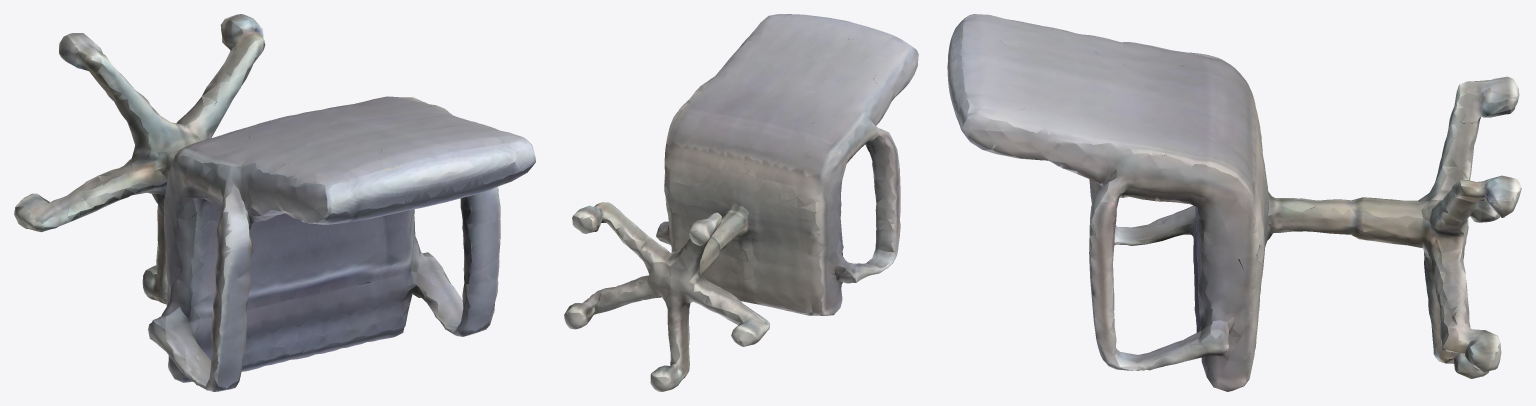
3 views of the same model, side by side, from view 1: azimuth 30°, elevation 25°; view 2: azimuth 150°, elevation 25°; view 3: azimuth 270°, elevation 25° (orthographic). The views are drawn at different scales.
Parts seen in each view (by area): view 1: world; view 2: world; view 3: world.
Boxes of the visible parts, x1,y1,x2,y2 form: world: (14,14,535,391); world: (564,14,918,391); world: (947,14,1521,391).
Bounding box in the file's own units: 0.5064 × 0.5626 × 0.9032.
1 material, 1 textured.
